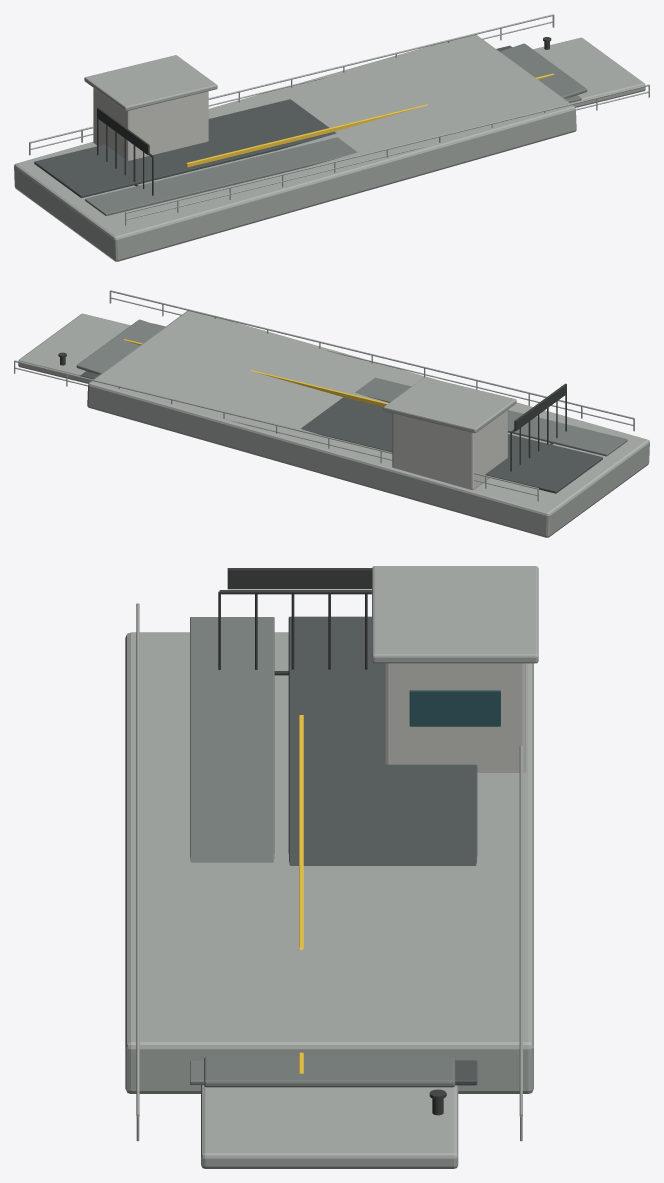
The model's file is ferry-mianhuadi-pier-v13-lod1.glb.
3 renders of one model, top to bottom at view 1: azimuth 30°, elevation 25°; view 2: azimuth 150°, elevation 25°; view 3: azimuth 270°, elevation 25°, orthographic. The views are drawn at different scales.
Parts seen in each view (by area): view 1: Mianhuadi concrete embankment, Mianhuadi vehicle approach, Mianhuadi pedestrian approach, Mianhuadi flat roof service booth, Mianhuadi service booth flat roof, Mianhuadi floating apron, Mianhuadi sloped boarding ramp, Mianhuadi south embankment rail, Mianhuadi human vehicle divider, Mianhuadi north embankment rail, Mianhuadi south embankment rail.001, Mianhuadi modest name board (+1 smaller); view 2: Mianhuadi concrete embankment, Mianhuadi vehicle approach, Mianhuadi flat roof service booth, Mianhuadi service booth flat roof, Mianhuadi floating apron, Mianhuadi pedestrian approach, Mianhuadi sloped boarding ramp, Mianhuadi south embankment rail, Mianhuadi north embankment rail, Mianhuadi south embankment rail.001, Mianhuadi modest name board, Mianhuadi human vehicle divider (+1 smaller); view 3: Mianhuadi concrete embankment, Mianhuadi vehicle approach, Mianhuadi pedestrian approach, Mianhuadi floating apron, Mianhuadi service booth flat roof, Mianhuadi flat roof service booth, Mianhuadi sloped boarding ramp, Mianhuadi service booth window, Mianhuadi modest name board, Mianhuadi south embankment rail, Mianhuadi north embankment rail, Mianhuadi human vehicle divider.
Part boxes in pixels (x1,y1,x2,y2): Mianhuadi concrete embankment: (14,34,576,261); Mianhuadi vehicle approach: (34,45,511,197); Mianhuadi pedestrian approach: (85,95,581,215); Mianhuadi flat roof service booth: (93,88,208,160); Mianhuadi service booth flat roof: (84,55,217,111); Mianhuadi floating apron: (533,37,645,107); Mianhuadi sloped boarding ramp: (500,43,587,98); Mianhuadi south embankment rail: (125,84,649,213); Mianhuadi human vehicle divider: (186,73,554,167); Mianhuadi north embankment rail: (29,14,553,143); Mianhuadi south embankment rail.001: (126,91,649,219); Mianhuadi modest name board: (97,107,149,154); Mianhuadi concrete embankment: (87,310,649,537); Mianhuadi vehicle approach: (80,371,602,493); Mianhuadi flat roof service booth: (392,410,507,489); Mianhuadi service booth flat roof: (383,377,516,433); Mianhuadi floating apron: (18,313,130,383); Mianhuadi pedestrian approach: (152,323,627,456); Mianhuadi sloped boarding ramp: (76,319,163,374); Mianhuadi south embankment rail: (110,290,634,419); Mianhuadi north embankment rail: (14,360,538,489); Mianhuadi south embankment rail.001: (110,297,633,425); Mianhuadi modest name board: (514,383,566,430); Mianhuadi human vehicle divider: (124,339,388,406); Mianhuadi concrete embankment: (125,632,533,1093); Mianhuadi vehicle approach: (288,616,477,1085); Mianhuadi pedestrian approach: (190,617,274,1084); Mianhuadi floating apron: (201,1085,458,1168); Mianhuadi service booth flat roof: (372,566,538,663); Mianhuadi flat roof service booth: (384,663,525,772); Mianhuadi sloped boarding ramp: (204,1056,455,1087); Mianhuadi service booth window: (409,690,500,726); Mianhuadi modest name board: (227,568,371,589); Mianhuadi south embankment rail: (136,603,139,1116); Mianhuadi north embankment rail: (519,745,522,1116); Mianhuadi human vehicle divider: (299,715,303,1073).
Size of the model in its own units: 40.47 by 6.57 by 13.15.
